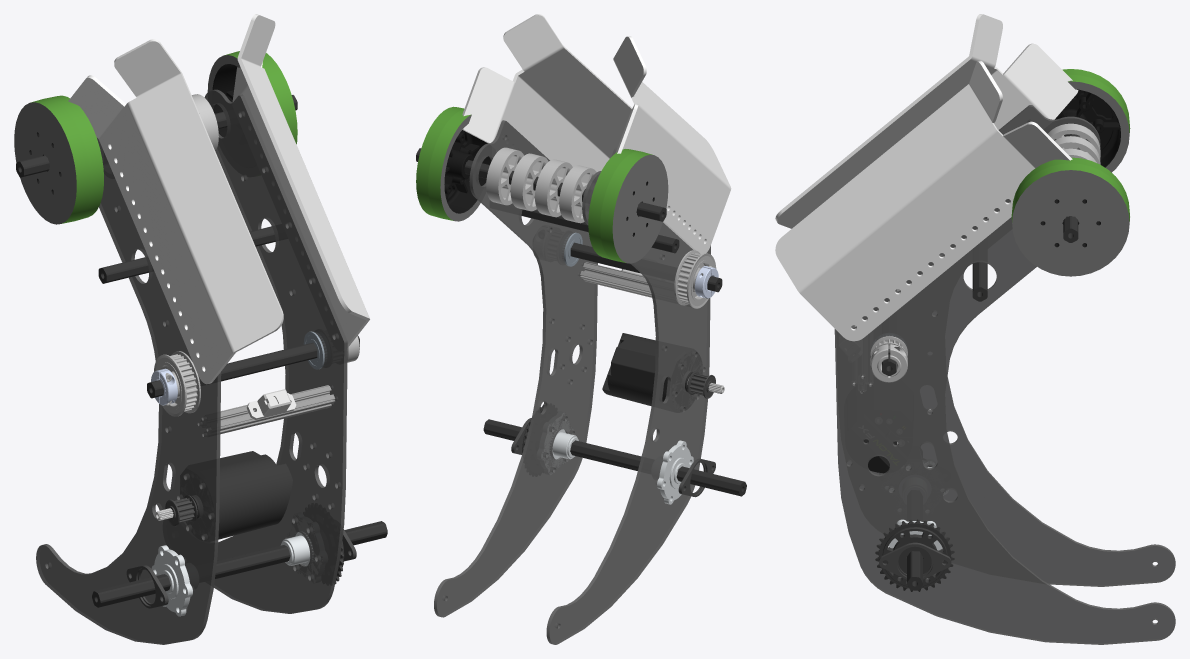
3 views of the same model, side by side, from view 1: azimuth 30°, elevation 25°; view 2: azimuth 150°, elevation 25°; view 3: azimuth 270°, elevation 25° (orthographic). The views are drawn at different scales.
Visible parts, largest first — view 1: WCP intake (×2), WCP-CC2025-05-002, 4" OD 1/2" Hex ID Stealth Wheel 35A (am-2647) (×2), MirrorWCP-CC2025-05-002, Shaft (×4), Kraken X60 Brushless Motor, am-4124 500 Hex Hub (×2), REV 15mm Extrusion (Configurable), 30t 9mm Wide 1/2" Hex Bore Double Flange 5mm HTD Aluminum Pu, id59, Thrifty Bearing Retention Hat (TTB-0059), 12t 9mm Wide Falcon Bore Double Flange 5mm HTD Aluminum Pull (+1 smaller); view 2: WCP intake (×2), MirrorWCP-CC2025-05-002, 4" OD 1/2" Hex ID Stealth Wheel 35A (am-2647) (×2), WCP-CC2025-05-002, 2" OD 30A Straight Flex Wheel (217-6353) (×4), Shaft (×4), Kraken X60 Brushless Motor, am-4124 500 Hex Hub (×2), 30t 9mm Wide 1/2" Hex Bore Double Flange 5mm HTD Aluminum Pu, REV 15mm Extrusion (Configurable), Thrifty Bearing Retention Hat (TTB-0059), 12t 9mm Wide Falcon Bore Double Flange 5mm HTD Aluminum Pull; view 3: WCP intake (×2), MirrorWCP-CC2025-05-002, 4" OD 1/2" Hex ID Stealth Wheel 35A (am-2647) (×2), WCP-CC2025-05-002, 1/2" Hex Bore Aluminum Versahub (217-2592), 32t Plate 25 Chain Sprocket (217-2690), Shaft (×2), Thrifty Bearing Retention Hat (TTB-0059), am-1238a 500Hex Collar Clamp Body, 2" OD 30A Straight Flex Wheel (217-6353).
Part boxes in pixels (x1,y1,x2,y2): WCP intake (×2): [36, 89, 347, 644]; WCP-CC2025-05-002: [68, 39, 283, 384]; 4" OD 1/2" Hex ID Stealth Wheel 35A (am-2647) (×2): [14, 51, 297, 224]; MirrorWCP-CC2025-05-002: [232, 14, 369, 347]; Shaft (×4): [16, 95, 387, 607]; Kraken X60 Brushless Motor: [155, 451, 292, 540]; am-4124 500 Hex Hub (×2): [151, 514, 322, 616]; REV 15mm Extrusion (Configurable): [202, 385, 335, 436]; 30t 9mm Wide 1/2" Hex Bore Double Flange 5mm HTD Aluminum Pu: [154, 351, 200, 416]; id59: [246, 389, 296, 419]; Thrifty Bearing Retention Hat (TTB-0059): [126, 565, 168, 608]; 12t 9mm Wide Falcon Bore Double Flange 5mm HTD Aluminum Pull: [165, 495, 197, 526]; WCP intake (×2): [434, 120, 710, 644]; MirrorWCP-CC2025-05-002: [462, 14, 632, 172]; 4" OD 1/2" Hex ID Stealth Wheel 35A (am-2647) (×2): [416, 106, 668, 263]; WCP-CC2025-05-002: [613, 36, 731, 254]; 2" OD 30A Straight Flex Wheel (217-6353) (×4): [486, 147, 596, 223]; Shaft (×4): [416, 148, 746, 496]; Kraken X60 Brushless Motor: [602, 333, 724, 411]; am-4124 500 Hex Hub (×2): [541, 413, 693, 504]; 30t 9mm Wide 1/2" Hex Bore Double Flange 5mm HTD Aluminum Pu: [674, 250, 716, 308]; REV 15mm Extrusion (Configurable): [580, 262, 652, 297]; Thrifty Bearing Retention Hat (TTB-0059): [678, 458, 715, 497]; 12t 9mm Wide Falcon Bore Double Flange 5mm HTD Aluminum Pull: [687, 371, 715, 398]; WCP intake (×2): [834, 105, 1175, 644]; MirrorWCP-CC2025-05-002: [775, 60, 1072, 341]; 4" OD 1/2" Hex ID Stealth Wheel 35A (am-2647) (×2): [1011, 69, 1130, 276]; WCP-CC2025-05-002: [775, 14, 1078, 228]; 1/2" Hex Bore Aluminum Versahub (217-2592): [882, 527, 947, 586]; 32t Plate 25 Chain Sprocket (217-2690): [875, 519, 954, 591]; Shaft (×2): [907, 217, 987, 590]; Thrifty Bearing Retention Hat (TTB-0059): [879, 542, 951, 579]; am-1238a 500Hex Collar Clamp Body: [870, 344, 907, 382]; 2" OD 30A Straight Flex Wheel (217-6353): [1048, 123, 1100, 158].
Size of the model in its own units: 0.2667 by 0.5454 by 0.3427.
